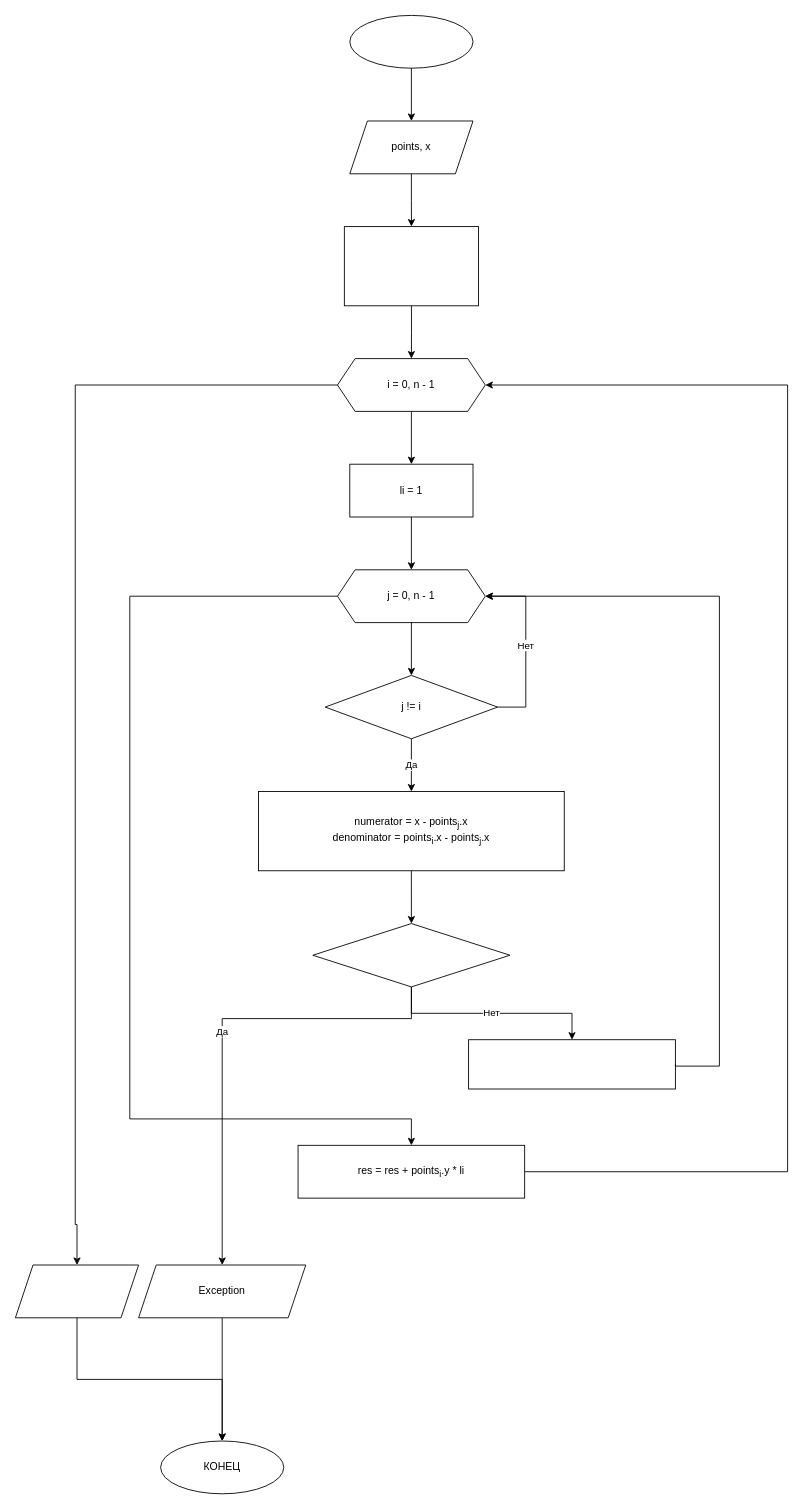
The diagram is 810 pixels wide and 1509 high, and some of its shapes have lost their labels. Each missing label, with the centre of its shape:
denominator == 0: point (411, 955)
li = (li * numerator) / denominator: point (571, 1064)
n = points.size res = 0: point (411, 266)
res: point (77, 1291)
НАЧАЛО: point (411, 41)
